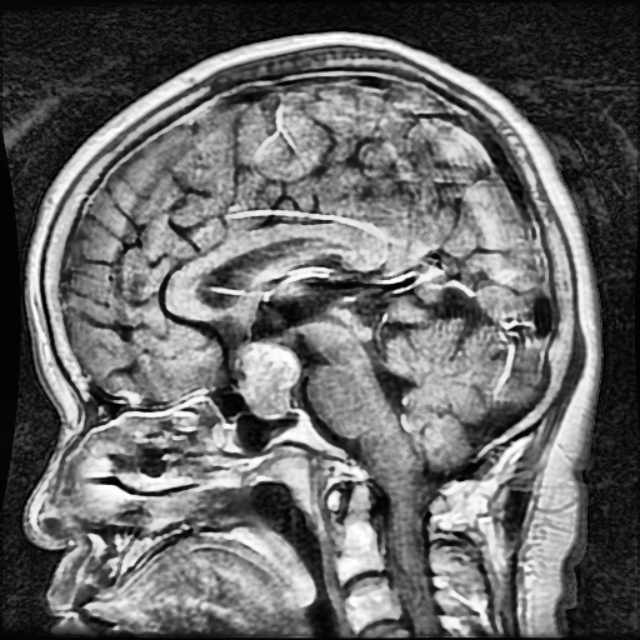Pituitary: (240, 340, 300, 415)
